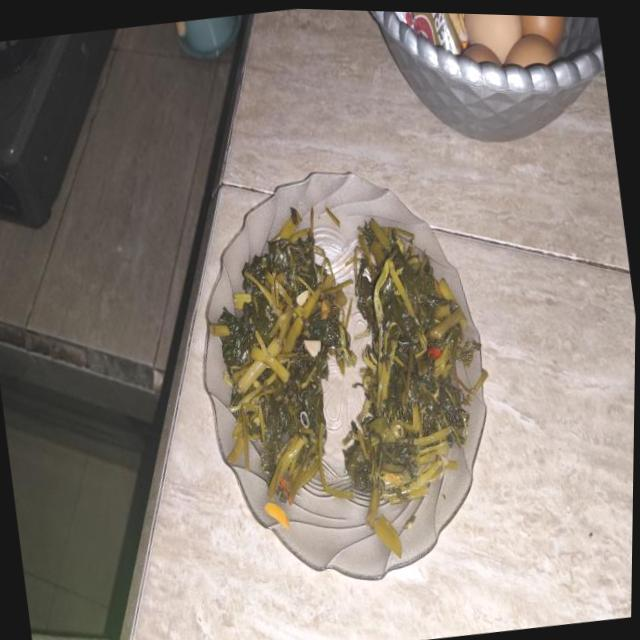tumis_kangkung: (210, 208, 356, 502), (344, 226, 470, 504)
